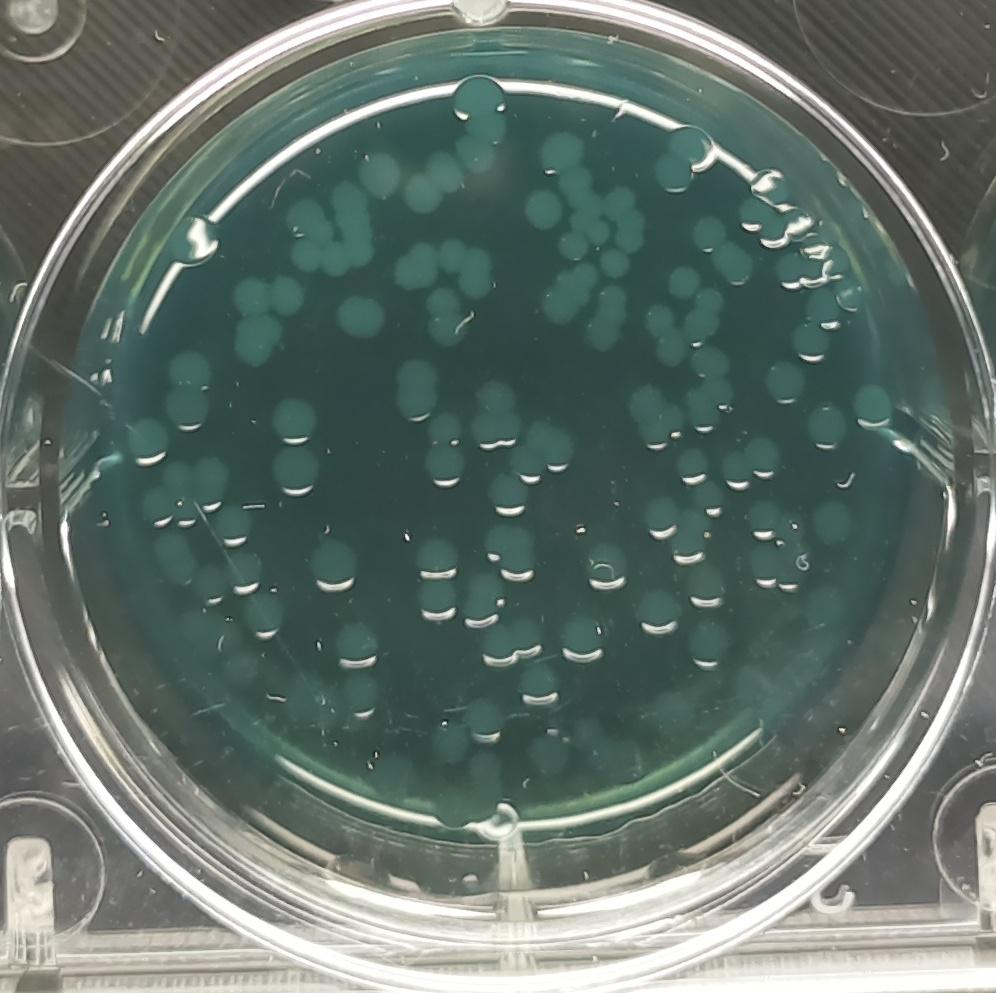pddamselae: (140, 456, 231, 530), (450, 75, 507, 176), (158, 350, 218, 443), (505, 419, 581, 487), (694, 215, 756, 290), (331, 178, 379, 274), (399, 151, 468, 217), (465, 375, 525, 450), (622, 384, 687, 452), (410, 535, 459, 624), (479, 520, 546, 585), (278, 194, 333, 273), (651, 119, 707, 191), (423, 408, 470, 493), (436, 236, 500, 298), (541, 258, 597, 328), (476, 614, 545, 669), (230, 269, 304, 319), (718, 437, 785, 492), (553, 611, 613, 672), (642, 299, 690, 373), (548, 127, 595, 202), (391, 354, 441, 424), (307, 530, 359, 597), (329, 288, 387, 345), (582, 283, 630, 350), (325, 616, 379, 675), (233, 314, 289, 370), (456, 575, 510, 633), (677, 281, 724, 346), (745, 544, 806, 593), (579, 539, 631, 595), (604, 185, 647, 252), (801, 400, 852, 455), (266, 394, 321, 444), (390, 239, 440, 294), (270, 443, 323, 494), (806, 498, 857, 551), (458, 694, 508, 748), (682, 621, 733, 673), (688, 380, 737, 434), (426, 286, 468, 348), (849, 381, 896, 433), (123, 417, 172, 464), (356, 152, 403, 201), (487, 468, 530, 521), (635, 587, 680, 637), (519, 661, 562, 713), (761, 358, 808, 405), (681, 563, 726, 611), (243, 592, 285, 643), (338, 677, 383, 723), (222, 548, 265, 596), (522, 185, 565, 233), (214, 498, 256, 546), (640, 494, 681, 542), (774, 252, 824, 291), (790, 322, 832, 368), (742, 499, 785, 542), (666, 525, 707, 568), (192, 563, 231, 608), (803, 288, 841, 331), (670, 448, 713, 485), (694, 479, 732, 519), (690, 345, 728, 384), (667, 265, 702, 304), (557, 227, 592, 265), (600, 247, 631, 283)
